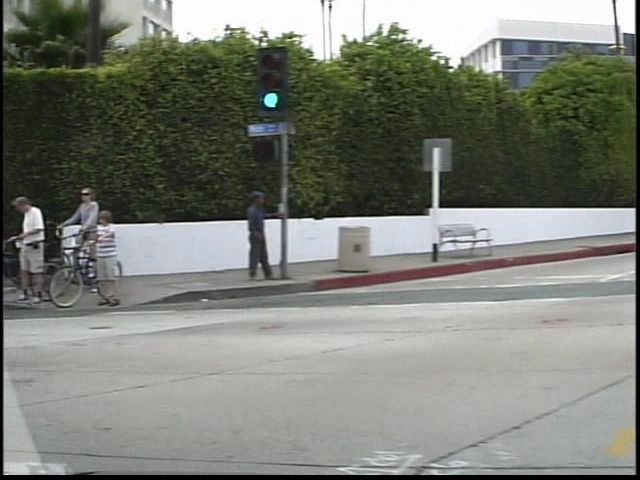person: (71, 184, 124, 300), (3, 179, 41, 312)
